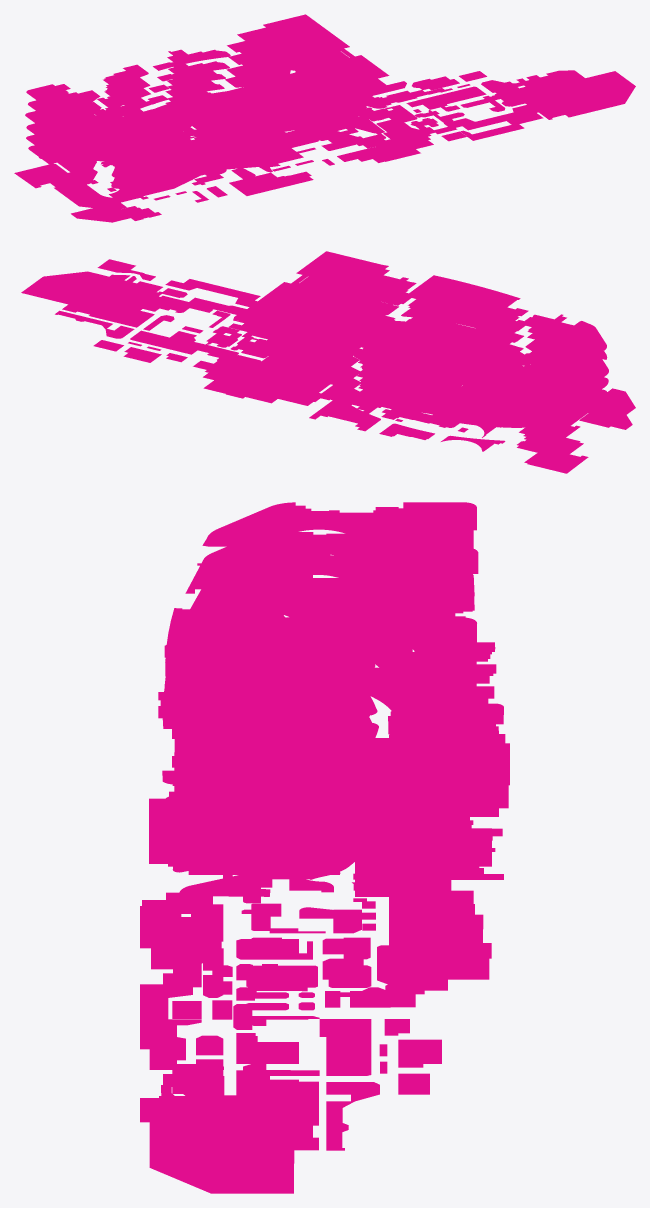
Rendered from stores.gltf.
The picture shows the model from 3 angles, top to bottom: view 1: azimuth 30°, elevation 25°; view 2: azimuth 150°, elevation 25°; view 3: azimuth 270°, elevation 25°; orthographic projection. The views are drawn at different scales.
Parts seen in each view (by area): view 1: L6,L5-11,L5-12,L6-12,L6-13, L5-11,L5-12,L6-12,L6-13, object_28, object_25, L6-01,L6-02B, B2-01/02, L2-01/02/03, L6-16, L6-15A, L1-01/02/03, L6-17, B2-23 (+40 smaller); view 2: L6,L5-11,L5-12,L6-12,L6-13, L5-11,L5-12,L6-12,L6-13, object_28, object_25, B2-01/02, L6-01,L6-02B, L1-01/02/03, B2-12,B2-13,B2-14,B2-15, L2-01/02/03, D99|D100, L1-13, L6-16 (+30 smaller); view 3: L6,L5-11,L5-12,L6-12,L6-13, L5-11,L5-12,L6-12,L6-13, object_28, object_25, L6-01,L6-02B, L3-15A, D99|D100, L6-16, B1-56/57, L6-15A, L2-16, L5-03 (+28 smaller).
Boxes of the visible parts, x1,y1,x2,y2 form: L6,L5-11,L5-12,L6-12,L6-13: (227,14,389,91); L5-11,L5-12,L6-12,L6-13: (228,48,389,102); object_28: (515,82,606,119); object_25: (571,71,635,107); L6-01,L6-02B: (26,84,100,109); B2-01/02: (14,164,73,188); L2-01/02/03: (26,134,96,174); L6-16: (207,89,262,119); L6-15A: (249,81,292,108); L1-01/02/03: (28,145,97,184); L6-17: (184,95,232,118); B2-23: (255,171,313,189); L6,L5-11,L5-12,L6-12,L6-13: (237,251,416,332); L5-11,L5-12,L6-12,L6-13: (237,276,410,347); object_28: (62,276,162,323); object_25: (21,271,106,304); B2-01/02: (517,438,588,473); L6-01,L6-02B: (518,353,577,384); L1-01/02/03: (508,402,605,445); B2-12,B2-13,B2-14,B2-15: (245,383,320,405); L2-01/02/03: (519,389,607,433); D99|D100: (193,360,262,398); L1-13: (277,364,343,392); L6-16: (438,283,520,310); L6,L5-11,L5-12,L6-12,L6-13: (173,693,509,785); L5-11,L5-12,L6-12,L6-13: (174,718,508,808); object_28: (149,1095,318,1150); object_25: (149,1150,294,1193); L6-01,L6-02B: (354,502,476,552); L3-15A: (178,813,339,855); D99|D100: (385,943,491,1007); L6-16: (165,608,273,659); B1-56/57: (389,914,483,946); L6-15A: (165,659,273,689); L2-16: (179,833,338,874); L5-03: (351,530,473,576).
Bounding box in the file's own units: 387531 × 52950 × 111713.
